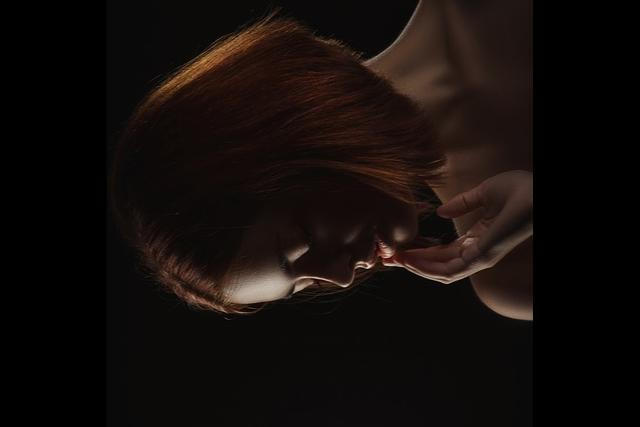Non_Gorille: (119, 0, 533, 426)
